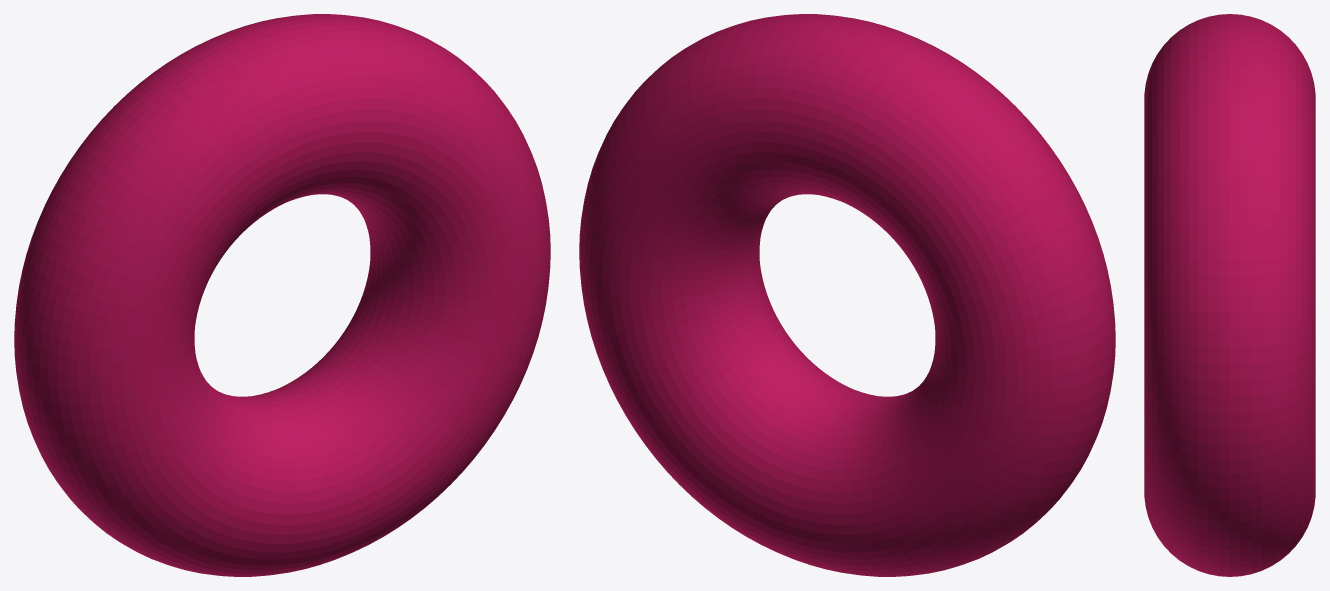
3 views of the same model, side by side, from view 1: azimuth 30°, elevation 25°; view 2: azimuth 150°, elevation 25°; view 3: azimuth 270°, elevation 25° (orthographic). The views are drawn at different scales.
Visible parts, largest first — view 1: world; view 2: world; view 3: world.
Part boxes in pixels (x1,y1,x2,y2): world: (14, 14, 550, 576); world: (579, 14, 1115, 576); world: (1144, 14, 1315, 576).
Size of the model in its own units: 24.93 by 24.93 by 7.59.
